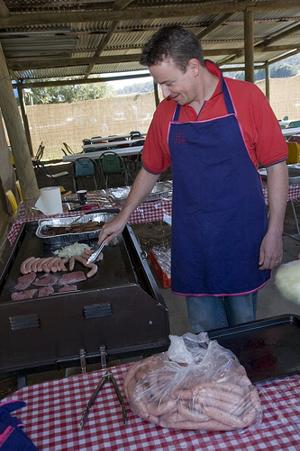person: (97, 25, 290, 326)
